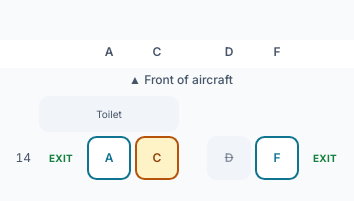
Test: SeatGrid › selecting marks the seat pressed; a second seat replaces the first
Click the button named "Seat 14A" at x=109, y=158, box [87,136,131,180]
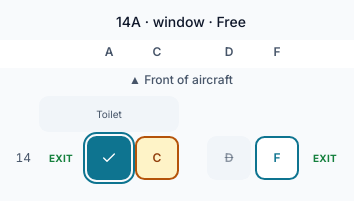
Expected: the button named "Seat 14A, window, free, selected" is pressed, [87,136,131,180]
Click the button named "Seat 14F" at x=277, y=158, box [255,136,299,180]
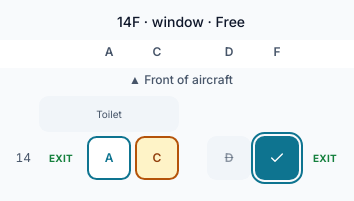
Expected: the button named "Seat 14F, window, free, selected" is pressed, [255,136,299,180]
Expected: the button "A" is not pressed, [87,136,131,180]
